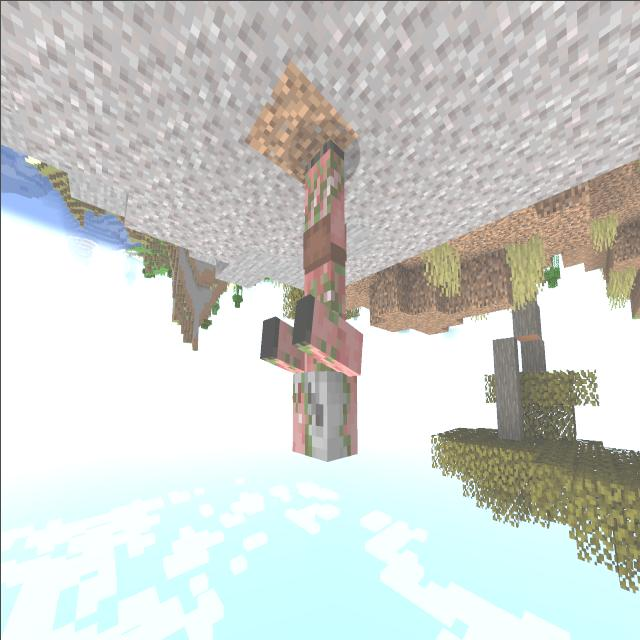Zombified Piglin: (250, 116, 374, 476)
